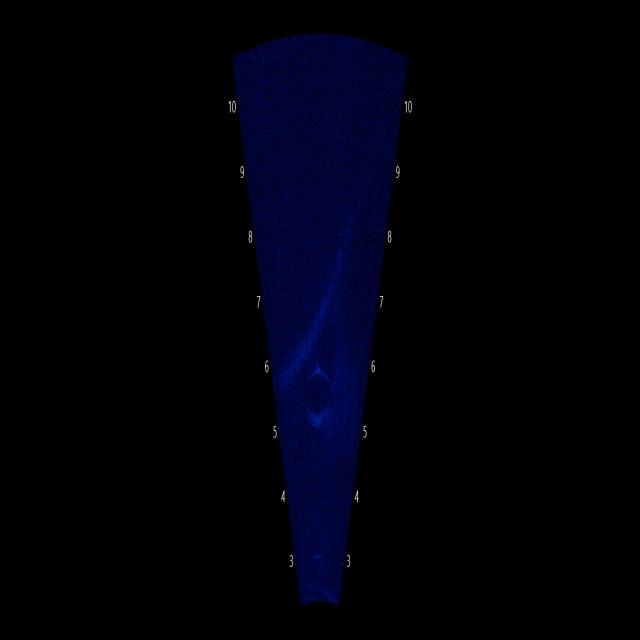circle: (300, 352, 338, 442)
